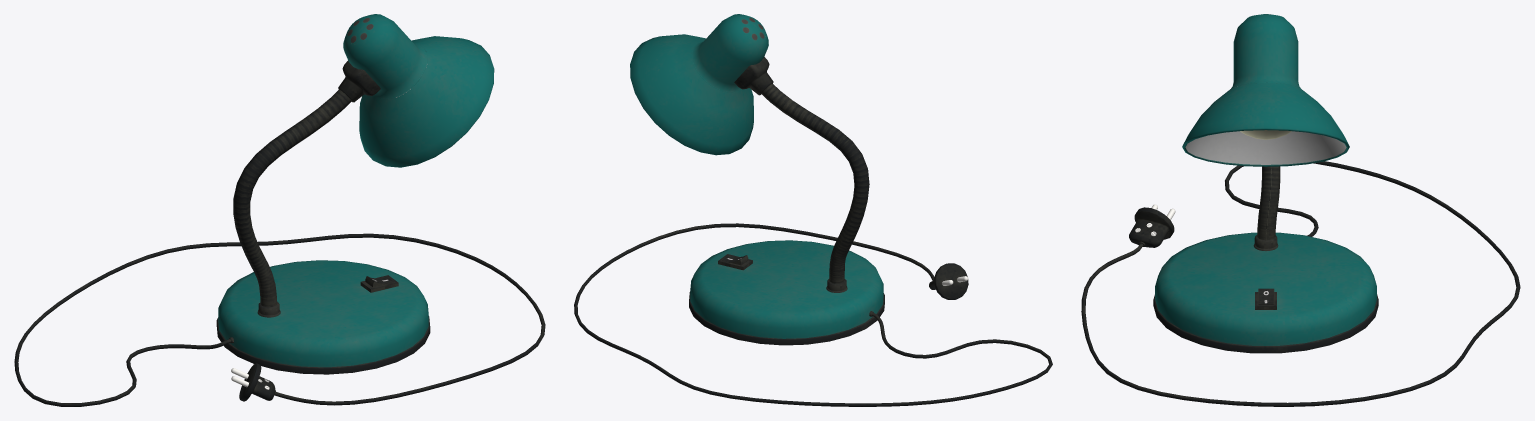
File: lamp.glb
The picture shows the model from 3 angles, left to right: view 1: azimuth 30°, elevation 25°; view 2: azimuth 150°, elevation 25°; view 3: azimuth 270°, elevation 25°; orthographic projection. The views are drawn at different scales.
Parts seen in each view (by area): view 1: pod_low, reflector_low, wire_low, mainwire_low, upod_low, holder_low, el_low; view 2: pod_low, reflector_low, wire_low, mainwire_low, upod_low, el_low, holder_low; view 3: pod_low, reflector_low, wire_low, upod_low, mainwire_low, el_low.
Part boxes in pixels (x1,y1,x2,y2): pod_low: (218, 260, 428, 367); reflector_low: (343, 14, 494, 167); wire_low: (14, 233, 545, 406); mainwire_low: (233, 89, 351, 307); upod_low: (216, 316, 430, 374); holder_low: (338, 60, 380, 102); el_low: (239, 363, 275, 401); pod_low: (690, 240, 883, 338); reflector_low: (630, 14, 768, 155); wire_low: (574, 223, 1052, 406); mainwire_low: (761, 83, 869, 283); upod_low: (689, 291, 884, 345); el_low: (929, 263, 968, 299); holder_low: (734, 57, 773, 95); pod_low: (1155, 232, 1376, 345); reflector_low: (1182, 14, 1349, 166); wire_low: (1081, 161, 1520, 406); upod_low: (1153, 294, 1378, 353); mainwire_low: (1257, 166, 1280, 240); el_low: (1129, 207, 1174, 247).
Bounding box in the file's own units: 0.5287 × 0.3168 × 0.3952.
1 material, 1 textured.
